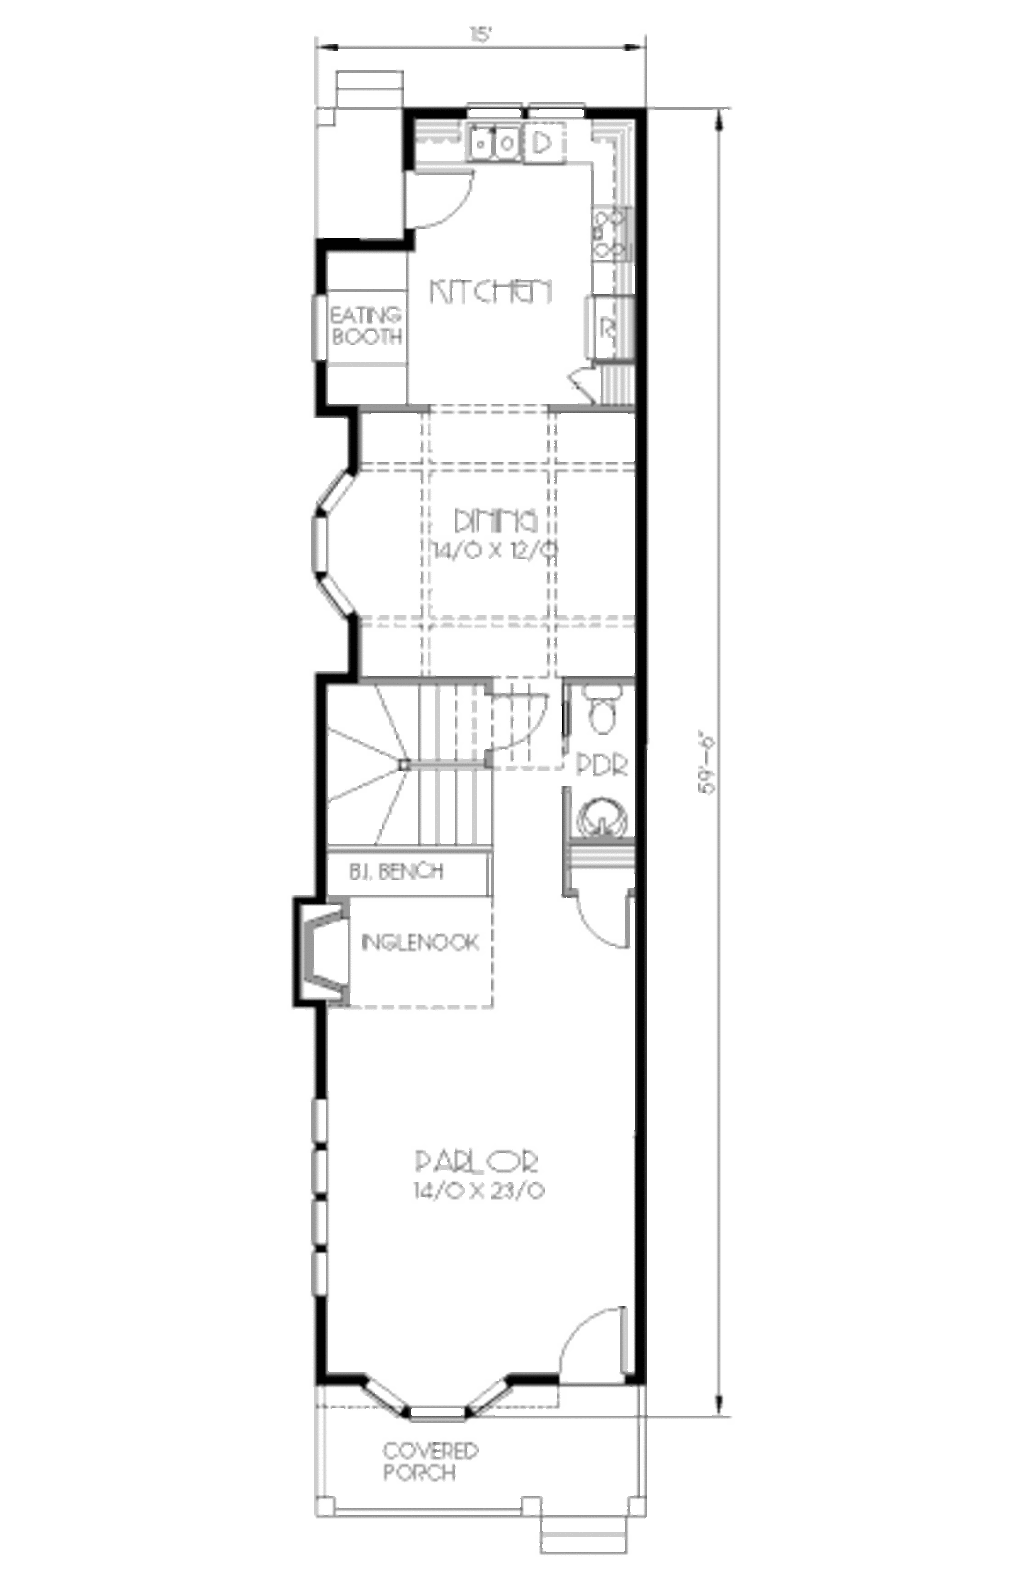door: (386, 152, 488, 233), (483, 681, 556, 764), (554, 1308, 627, 1384), (571, 884, 637, 952)
large_sink: (566, 676, 644, 747)
small_sink: (564, 786, 642, 847)
stairs: (320, 672, 490, 845)
twin_sink: (454, 111, 525, 176)
window: (354, 1367, 522, 1425), (312, 451, 349, 635), (310, 1100, 339, 1308)
